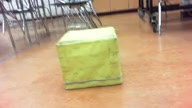cube: (56, 26, 122, 90)
